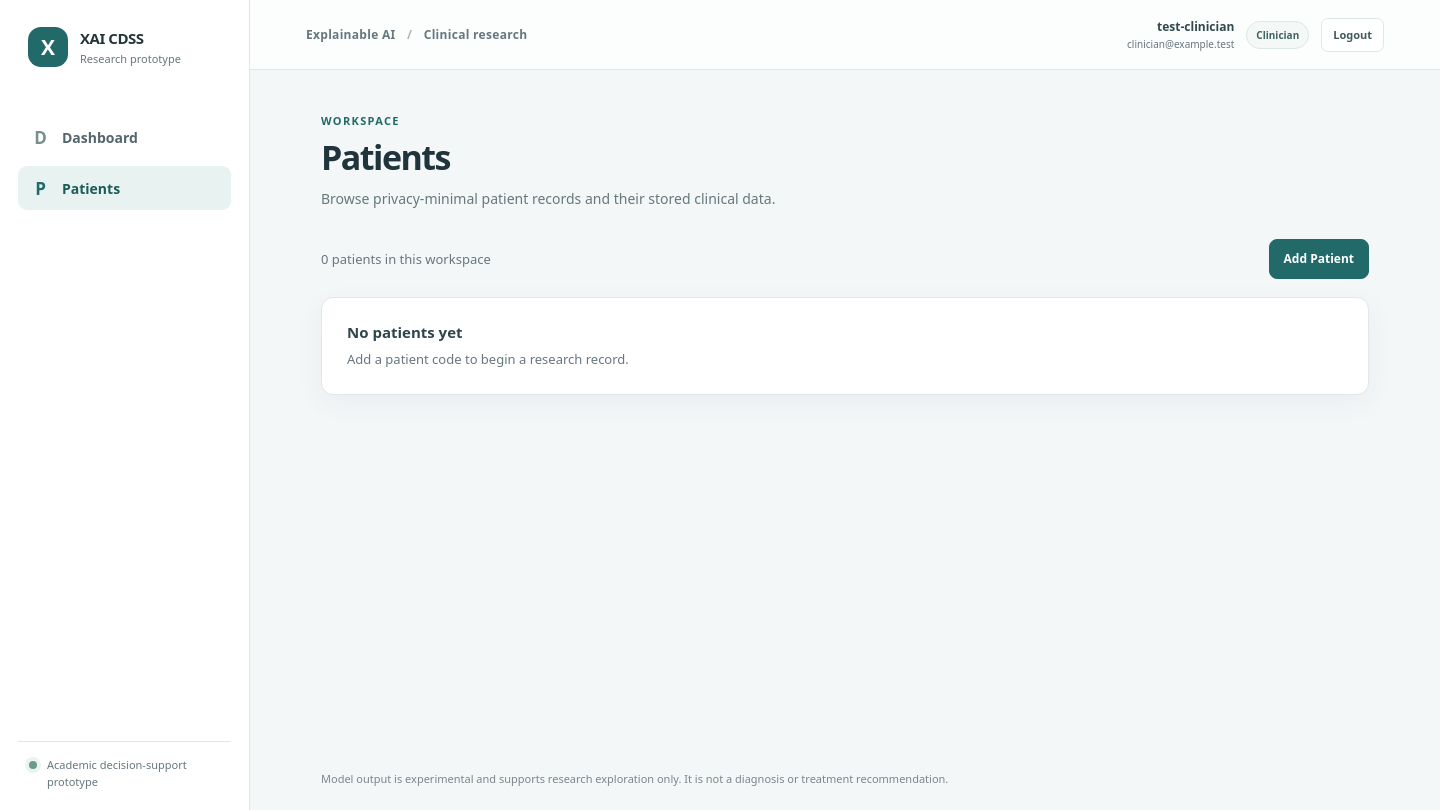
Test: patient management UI › creates patient then navigates to and loads its detail
This screenshot has width=1440, height=810.
Click the button "Add Patient". click: (1319, 259)
box: [1269,239,1369,279]
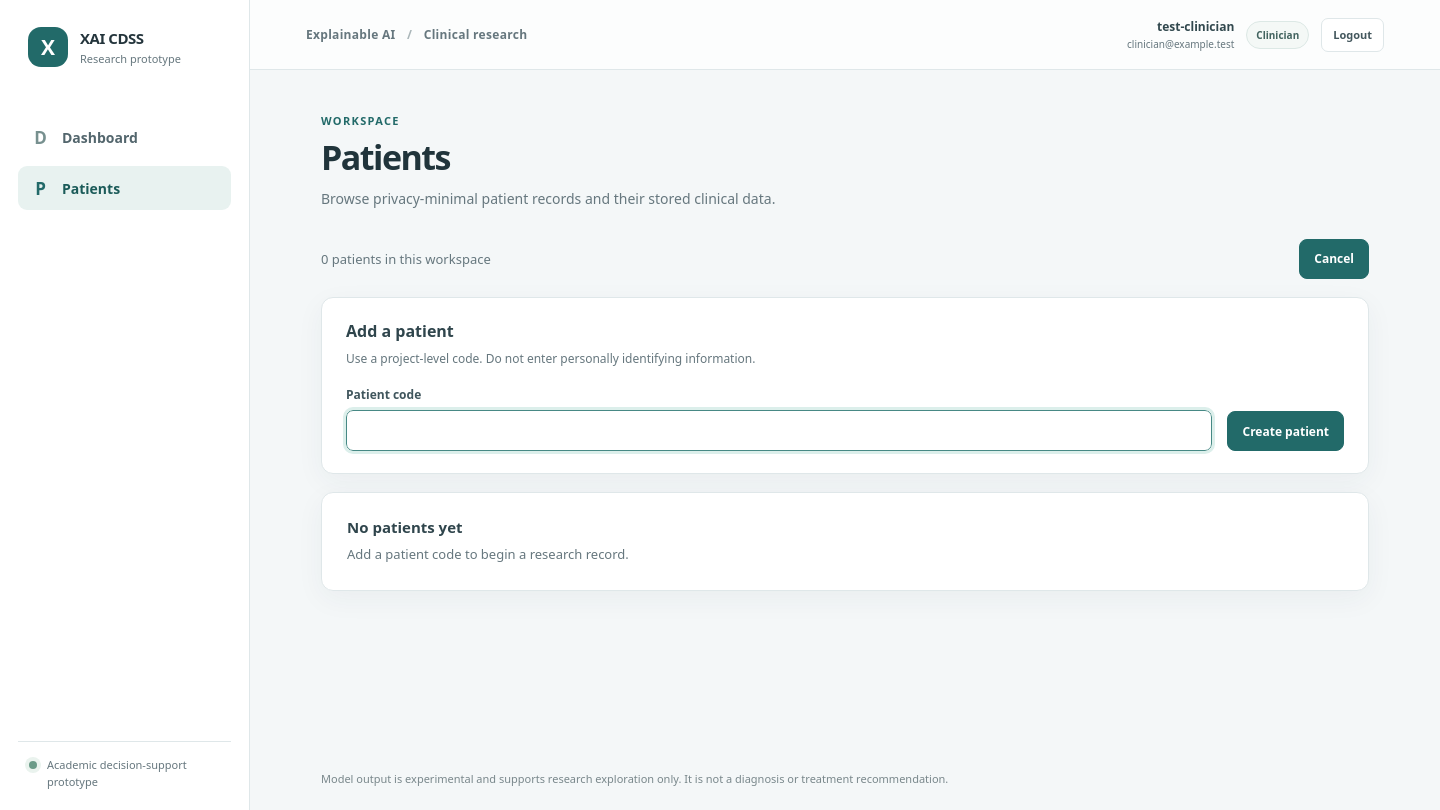
Type "RESEARCH-008" into the field labelled "Patient code". click: (779, 431)
box: [346,410,1212,452]
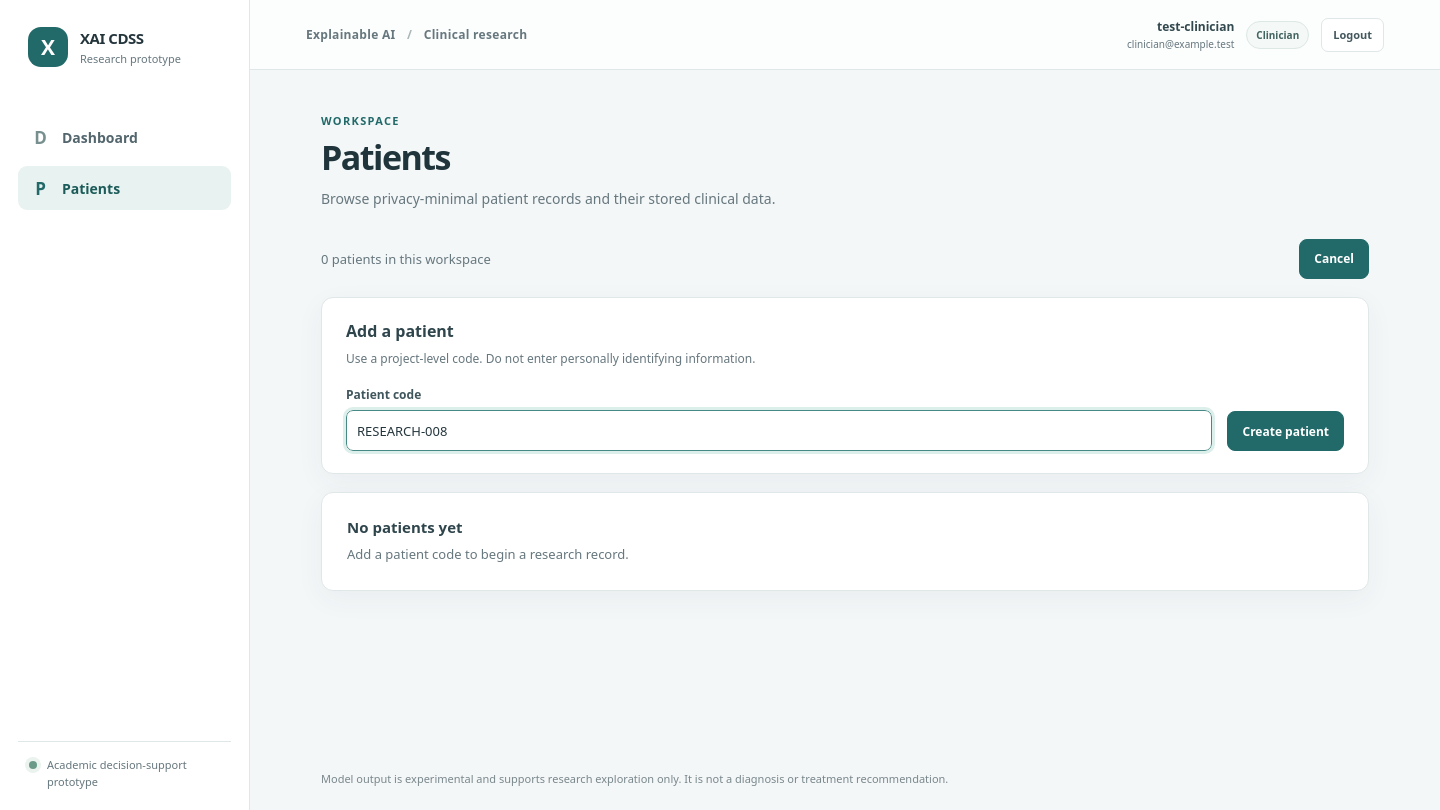
Click the button "Create patient". click: (1286, 432)
box: [1228,412,1344,452]
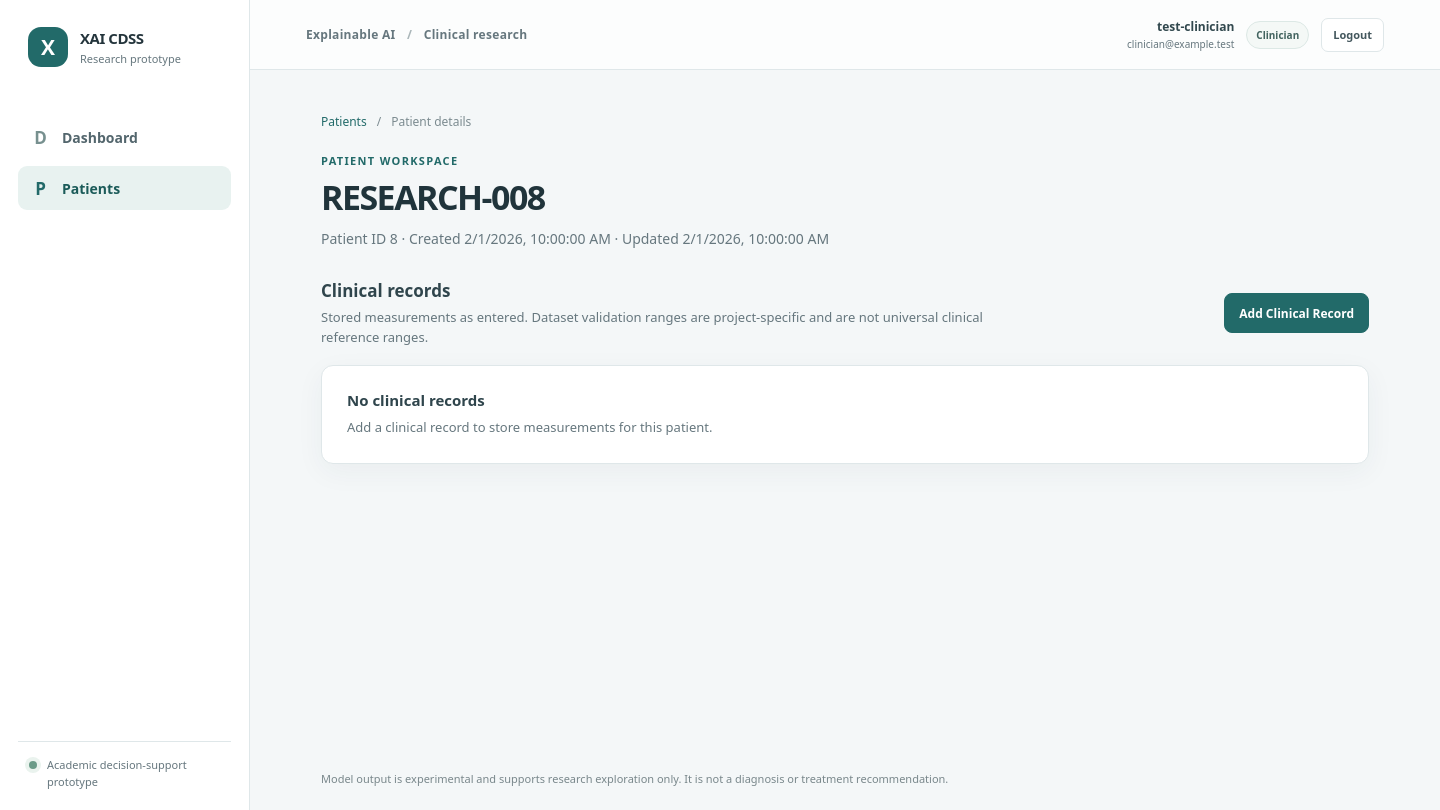
Now the heading "RESEARCH-008" is shown, box [321,174,545,220]
